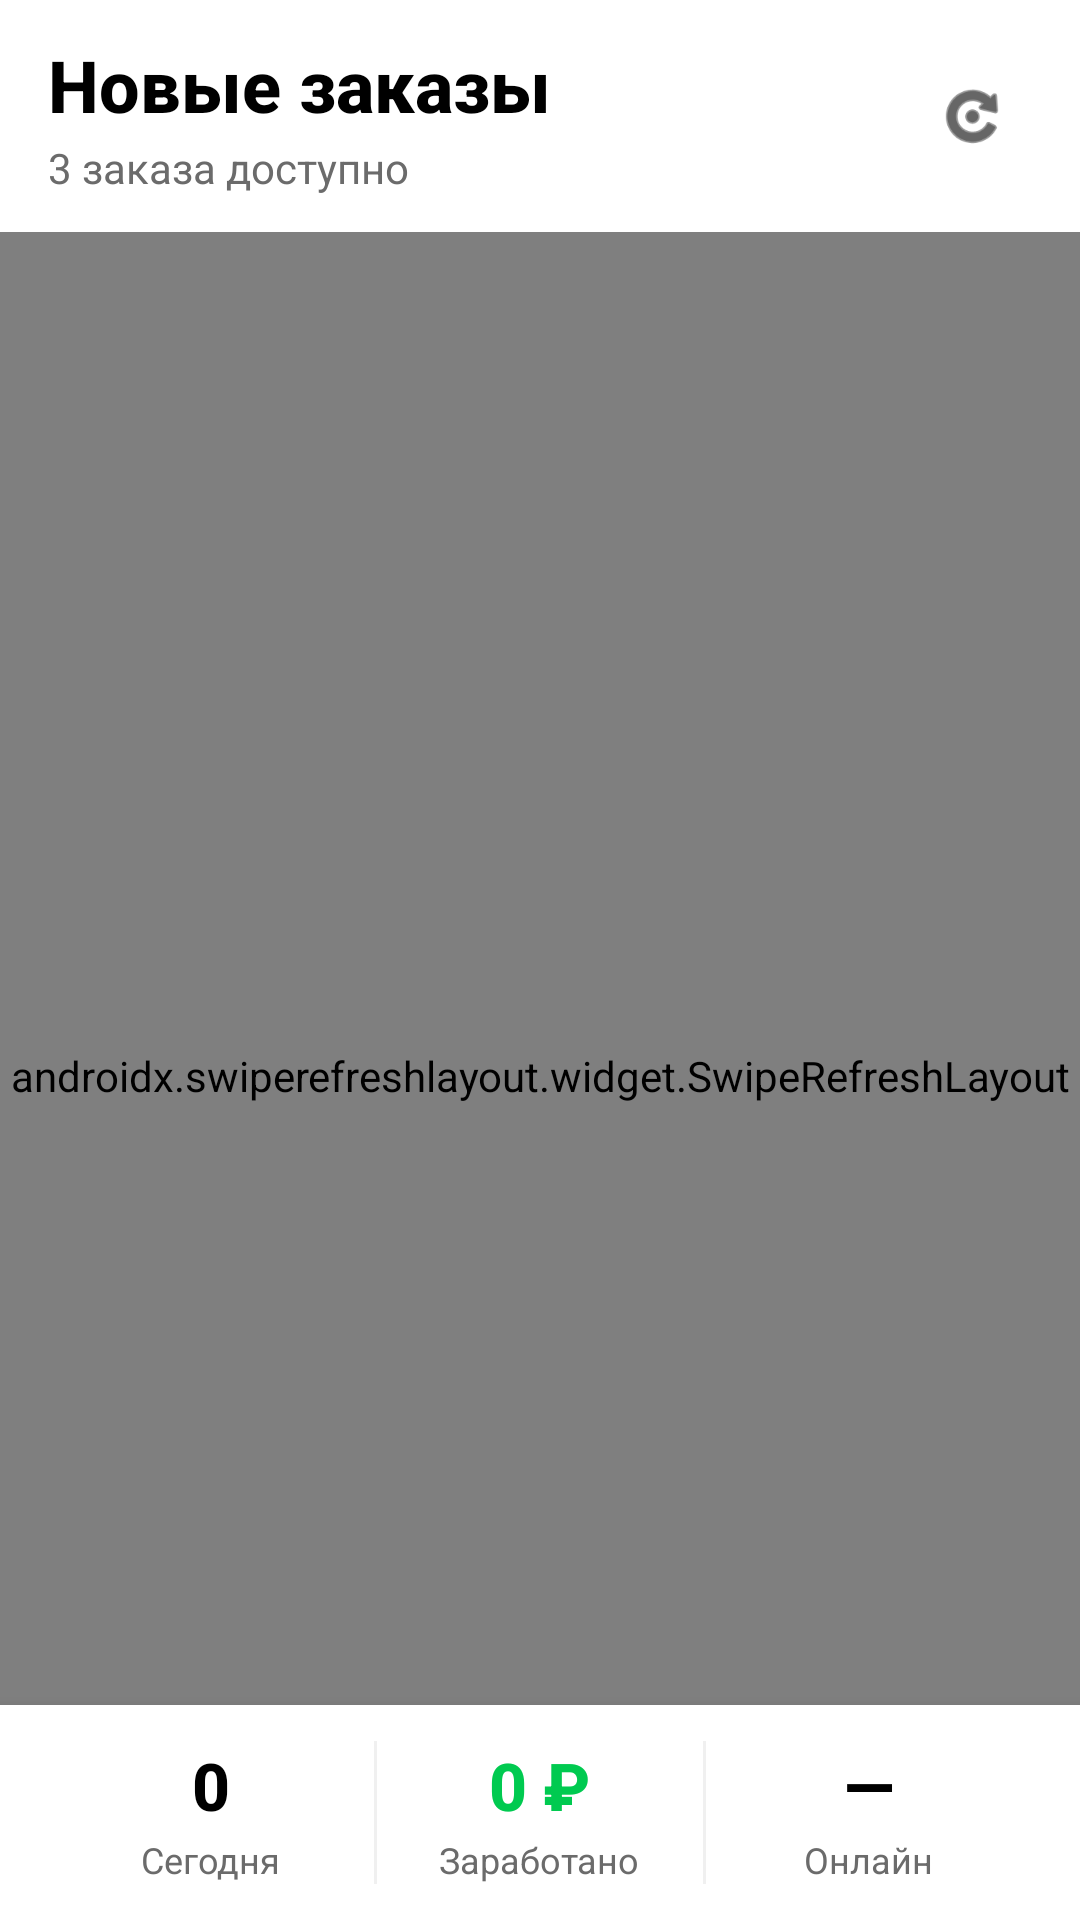

Named icons in this screenshot (1080×1920) and their bounding boxes, {"left": x1, "top": y1, "right": x2, "bottom": y2}:
rotate: {"left": 946, "top": 89, "right": 998, "bottom": 143}
